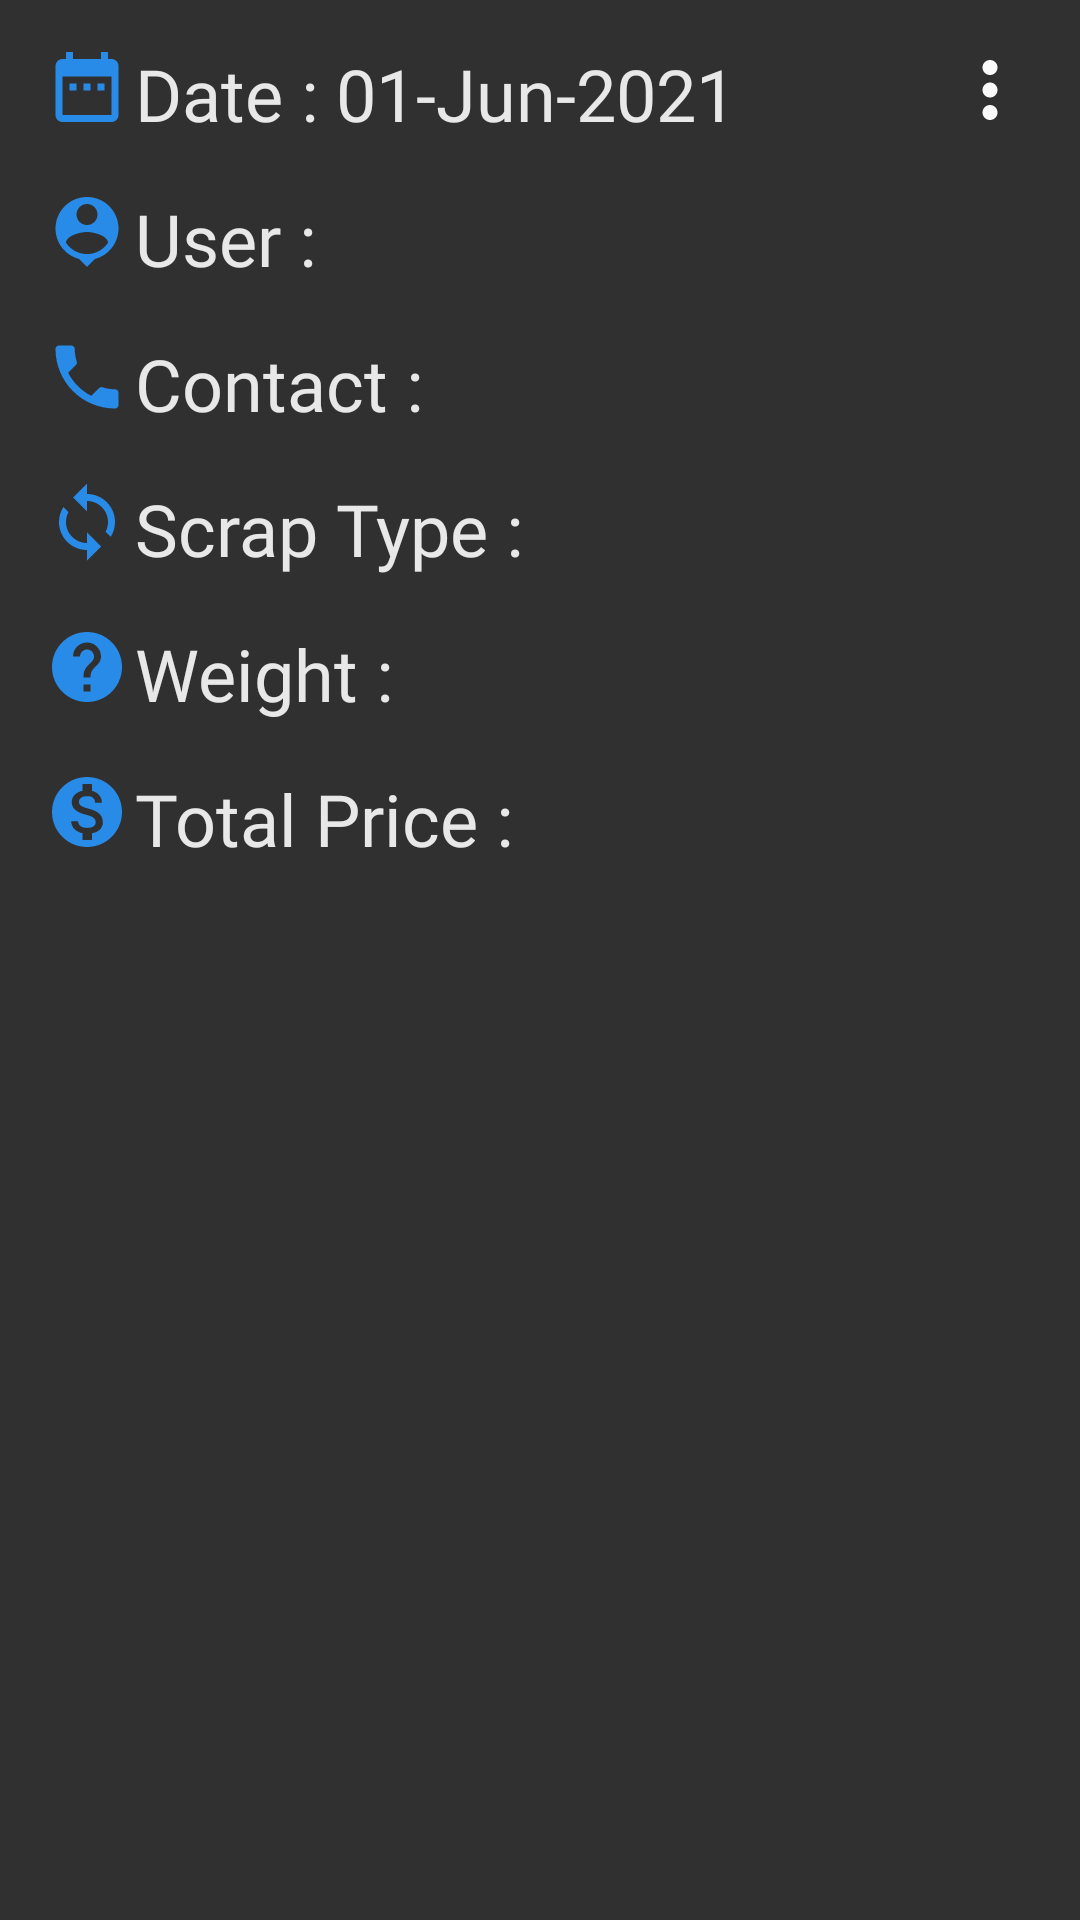

Icon click points for this 1080x1920 phone screenshot, format [x,y]:
date rangesmall: [87,87]
helpsmall: [87,667]
local phonesmall: [87,377]
loopsmall: [87,522]
monetization onsmall: [87,812]
more vert: [990,90]
person pinsmall: [87,232]
